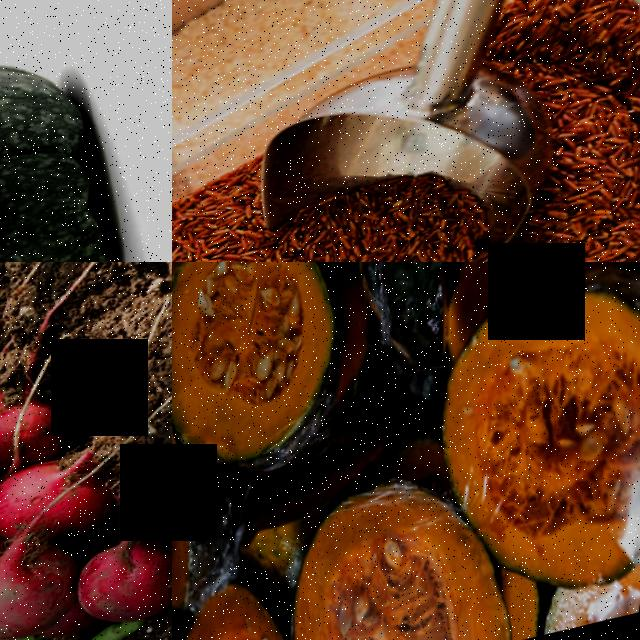pumpkin: (409, 266, 640, 618), (172, 262, 389, 489), (269, 463, 538, 640), (0, 18, 172, 262), (173, 590, 325, 640)
radishes: (0, 301, 172, 640)
red rice: (504, 0, 640, 166), (272, 160, 483, 262), (547, 123, 640, 257), (172, 186, 298, 262)
